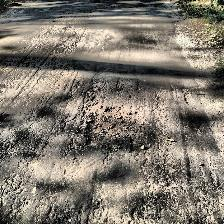pothole: (82, 104, 148, 152)
